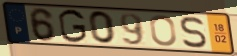0: (87, 10, 118, 46)
6: (28, 6, 58, 43)
9: (119, 12, 146, 46)
G: (57, 8, 89, 45)
O: (148, 14, 178, 48)
S: (179, 15, 209, 50)
